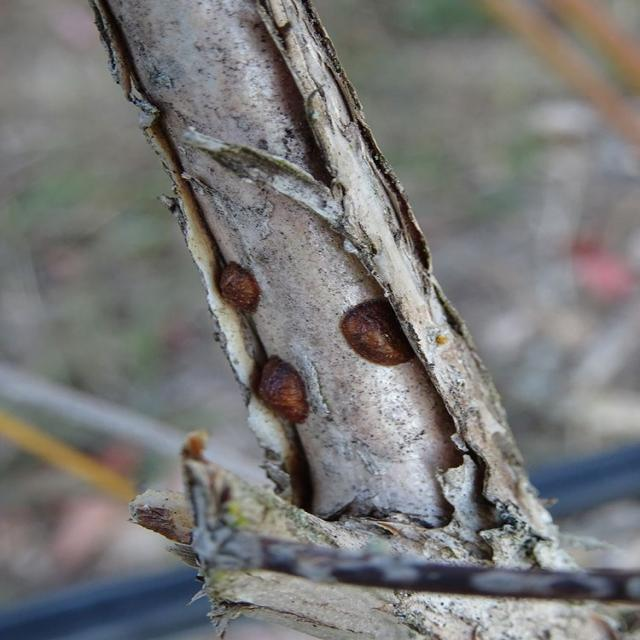BlackScale: (338, 298, 416, 367), (257, 356, 328, 424), (215, 262, 260, 318)
